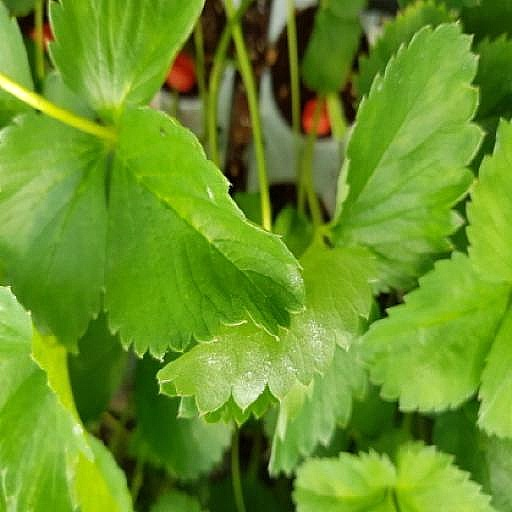Powdery Mildew Leaf: (99, 149, 308, 414), (155, 83, 382, 283)
